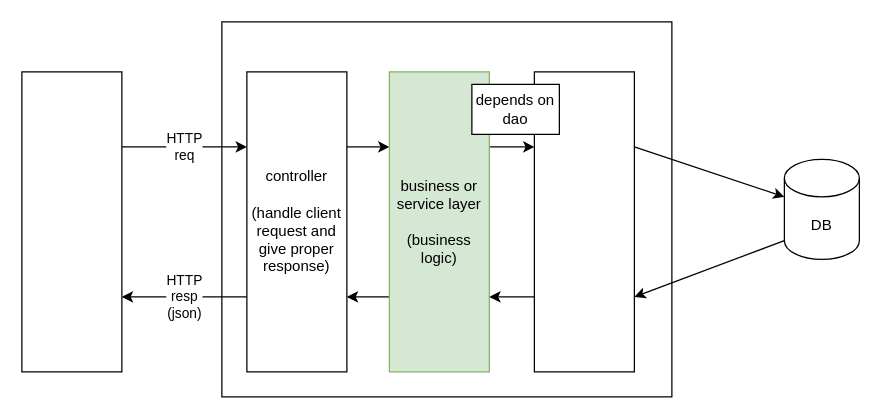
Some shapes in this 881 by 419 pixel diagram are drawn without their labels. The shapes that lost their labels are listed below. From the top down, each one's centre as x and y in pixels, then its label:
the point at 71,221: front end (client) mobile app/ web app (react/ angular/ vue/ ..)
the point at 583,221: Repository (DAO) layer persisitence logic
